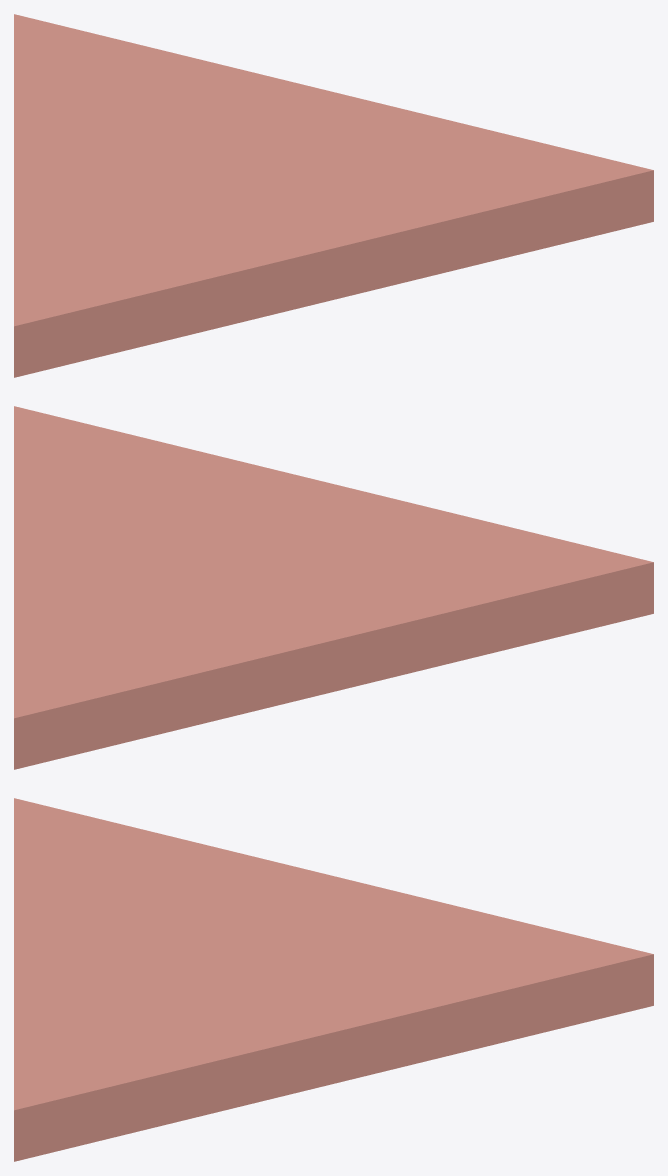
The model's file is SM_S05_ZoneIcon_Red.fbx.
3 renders of one model, top to bottom at view 1: azimuth 30°, elevation 25°; view 2: azimuth 150°, elevation 25°; view 3: azimuth 270°, elevation 25°, orthographic.
Parts seen in each view (by area): view 1: SM_S05_ZoneIcon_Red; view 2: SM_S05_ZoneIcon_Red; view 3: SM_S05_ZoneIcon_Red.
Boxes of the visible parts, x1,y1,x2,y2 form: SM_S05_ZoneIcon_Red: (14, 14, 653, 377); SM_S05_ZoneIcon_Red: (14, 406, 653, 769); SM_S05_ZoneIcon_Red: (14, 798, 653, 1161).
Size of the model in its own units: 25.98 by 22.5 by 2.
